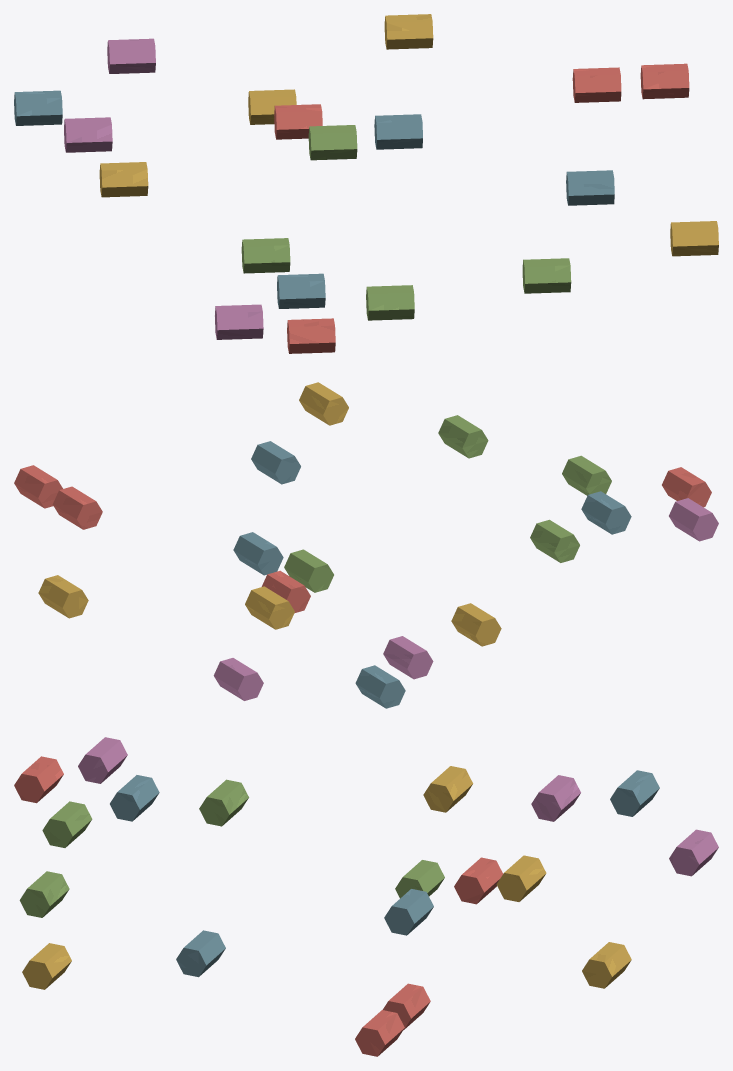
Rendered from sprinkles.glb.
3 views of the same model, one above another, from view 1: azimuth 30°, elevation 25°; view 2: azimuth 150°, elevation 25°; view 3: azimuth 270°, elevation 25° (orthographic). The views are drawn at different scales.
Parts seen in each view (by area): view 1: block_colored sugar strand (×19); view 2: block_colored sugar strand (×19); view 3: block_colored sugar strand (×19).
Part boxes in pixels (x1,y1,x2,y2): block_colored sugar strand (×19): [14, 14, 718, 353]; block_colored sugar strand (×19): [14, 382, 718, 708]; block_colored sugar strand (×19): [14, 737, 718, 1056].
Bounding box in the file's own units: 0.03 × 0.00125 × 0.0302.
Materials: 1 (1 with a texture image).
